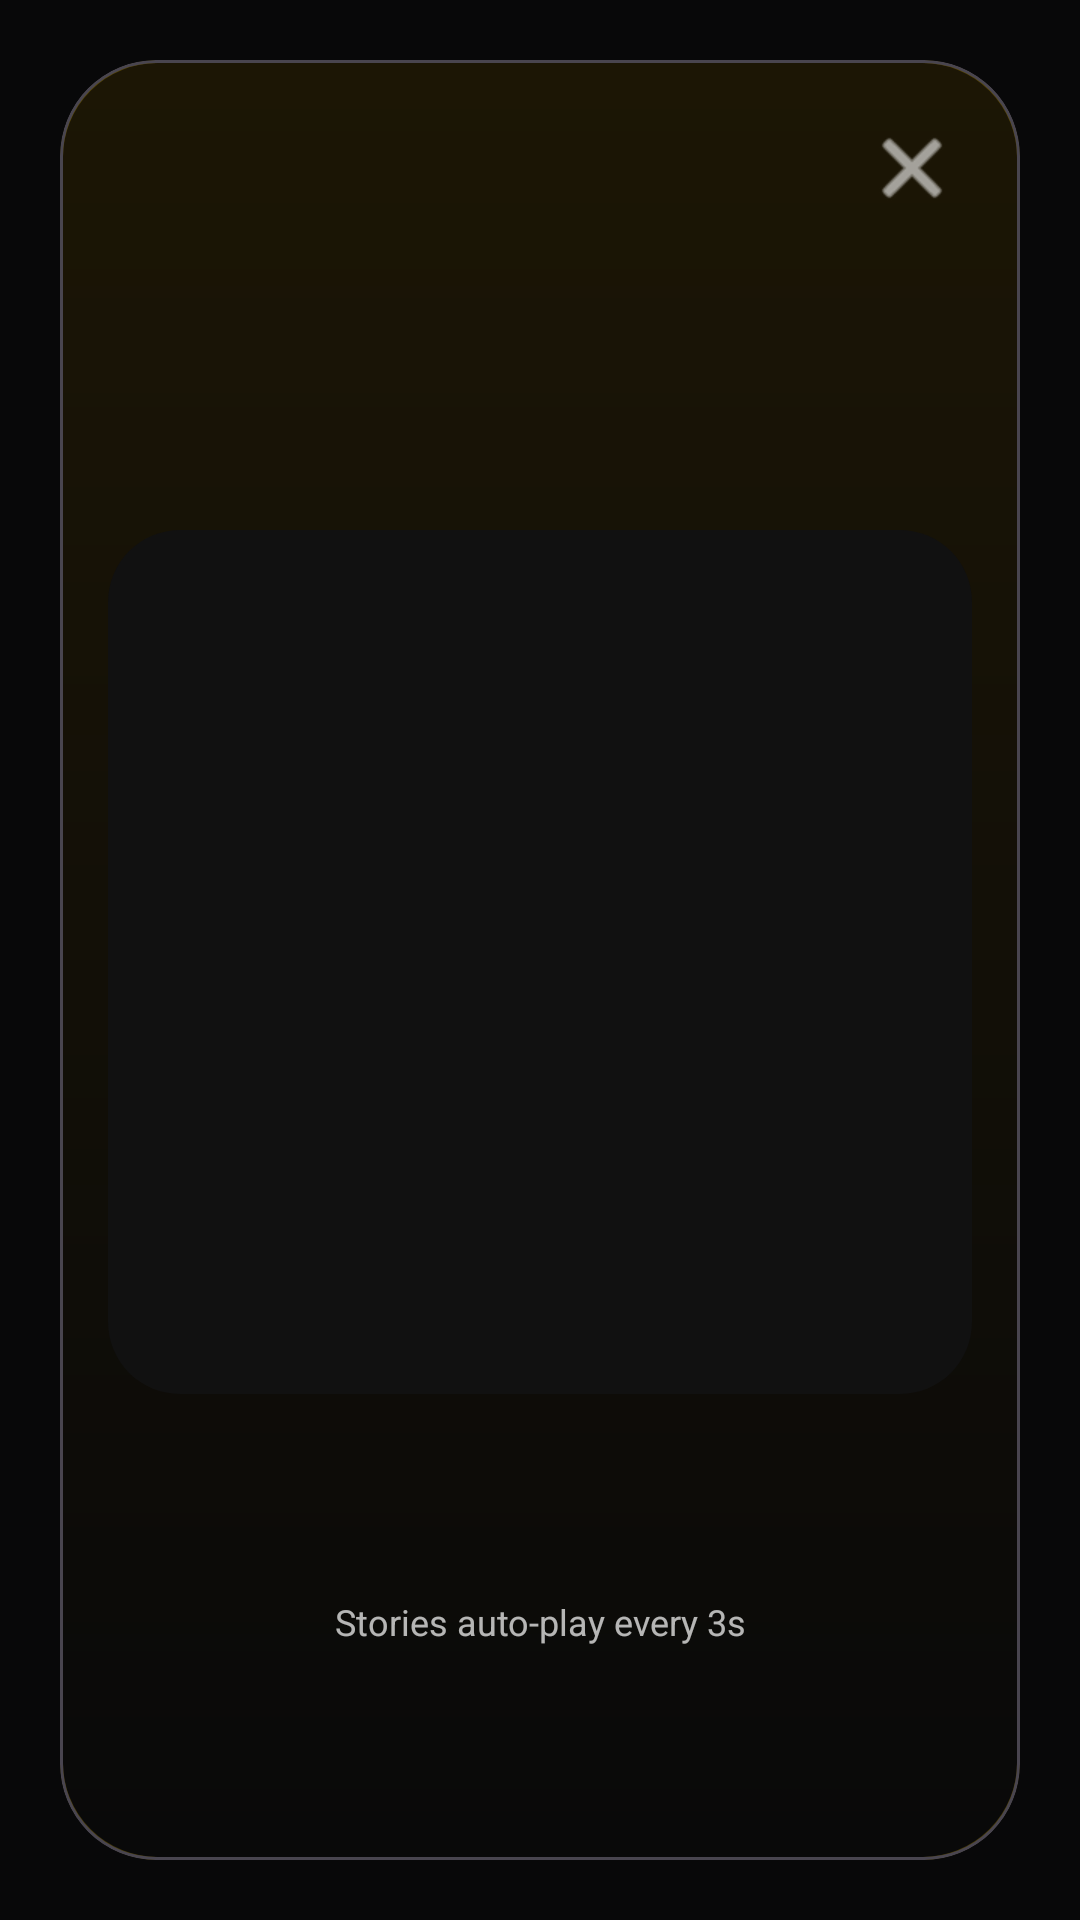

Screen size 1080×1920. Icon name, then its center in pixels as (x,y):
Close: (912,168)
